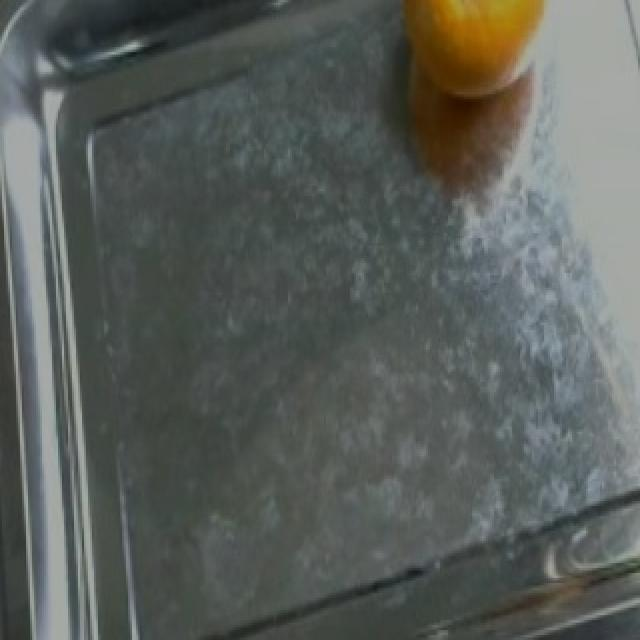Fruit: (370, 2, 574, 132)
